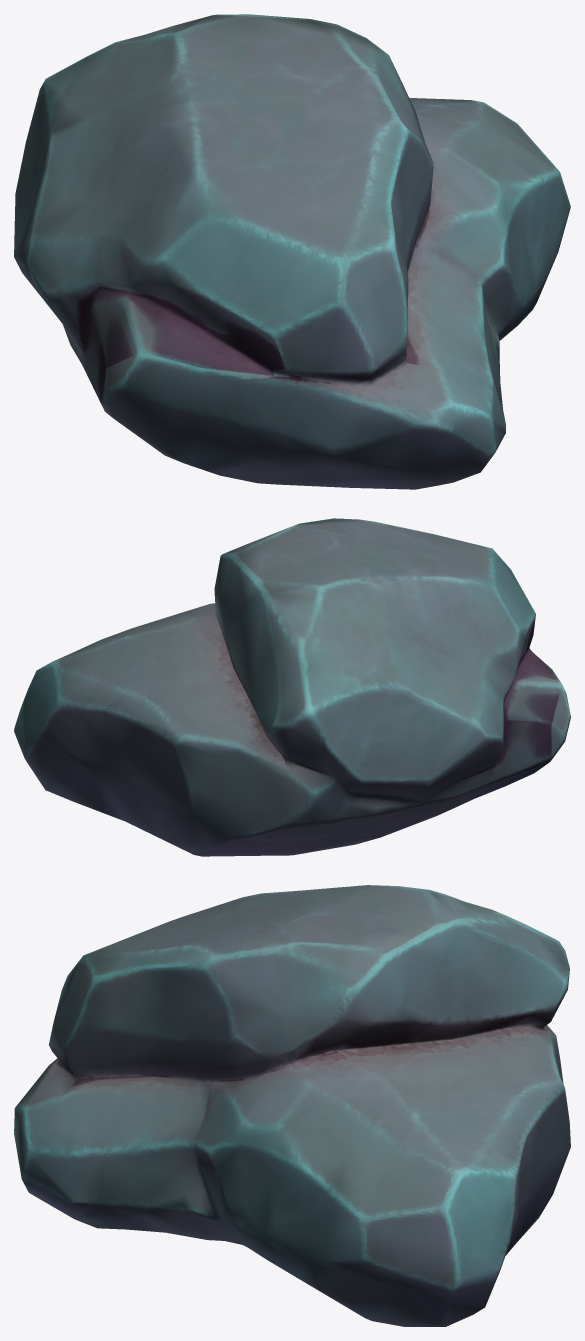
The model's file is rock2.glb.
3 renders of one model, top to bottom at view 1: azimuth 30°, elevation 25°; view 2: azimuth 150°, elevation 25°; view 3: azimuth 270°, elevation 25°, orthographic. The views are drawn at different scales.
Parts seen in each view (by area): view 1: rock2; view 2: rock2; view 3: rock2.
Boxes of the visible parts, x1,y1,x2,y2 form: rock2: (14, 14, 570, 489); rock2: (14, 518, 570, 856); rock2: (14, 885, 570, 1326).
Size of the model in its own units: 3.24 by 1.93 by 3.08.
Materials: 1 (1 with a texture image).
